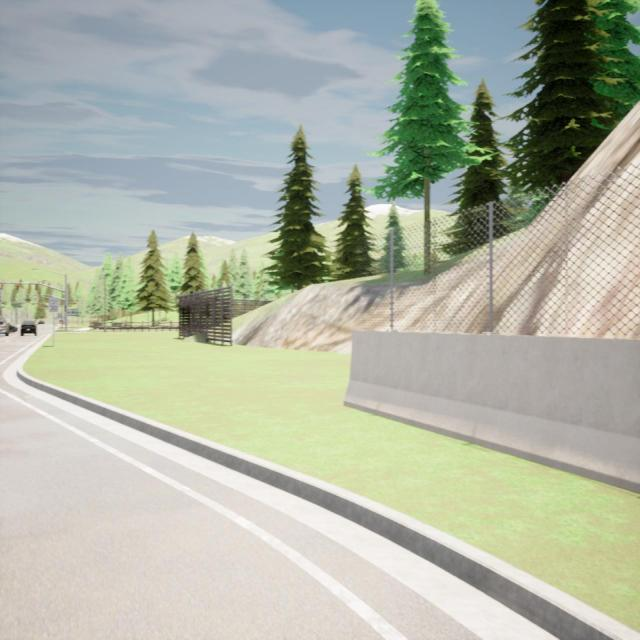Traffic_Signs: (50, 298, 57, 312), (67, 309, 78, 315)
Vehicle: (20, 321, 37, 336), (0, 319, 9, 336), (10, 322, 18, 333), (39, 315, 46, 324)
traffic_light: (16, 283, 19, 290), (1, 283, 3, 290), (36, 284, 37, 290)
